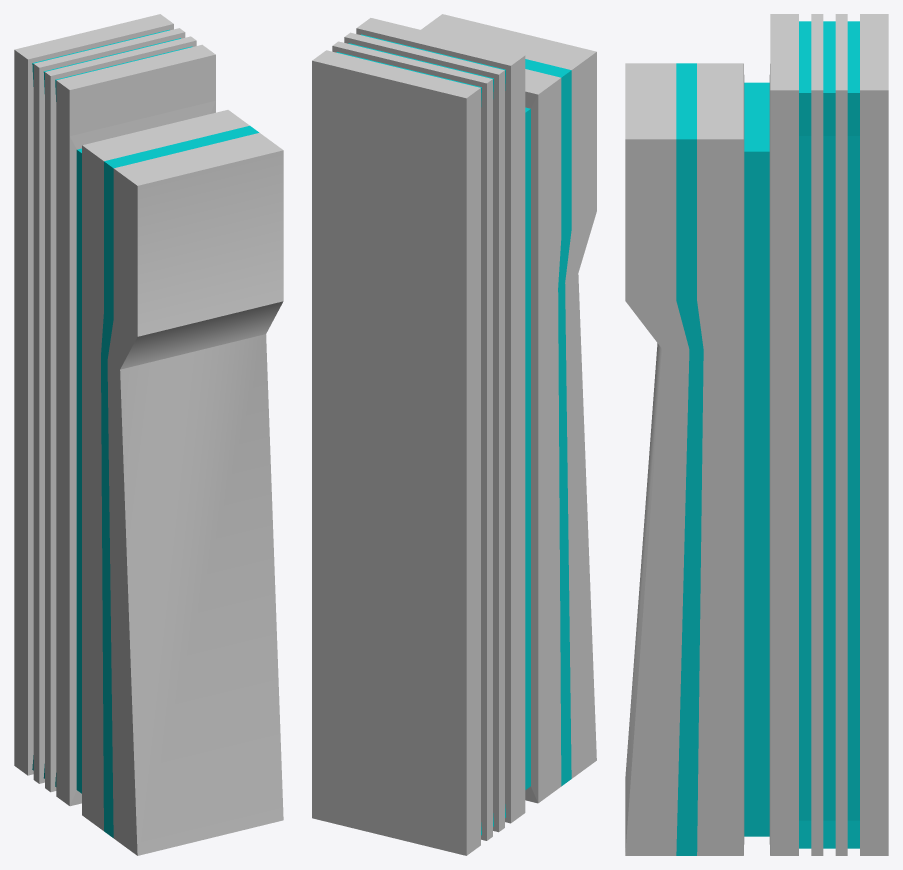
Rendered from SM_Building_Med_2.fbx.
3 views of the same model, side by side, from view 1: azimuth 30°, elevation 25°; view 2: azimuth 150°, elevation 25°; view 3: azimuth 270°, elevation 25° (orthographic). The views are drawn at different scales.
Visible parts, largest first — view 1: building_05.001; view 2: building_05.001; view 3: building_05.001.
Part boxes in pixels (x1,y1,x2,y2): building_05.001: (14,14,283,855); building_05.001: (312,14,596,855); building_05.001: (625,14,888,855).
Bounding box in the file's own units: 5.47 × 25.65 × 8.
